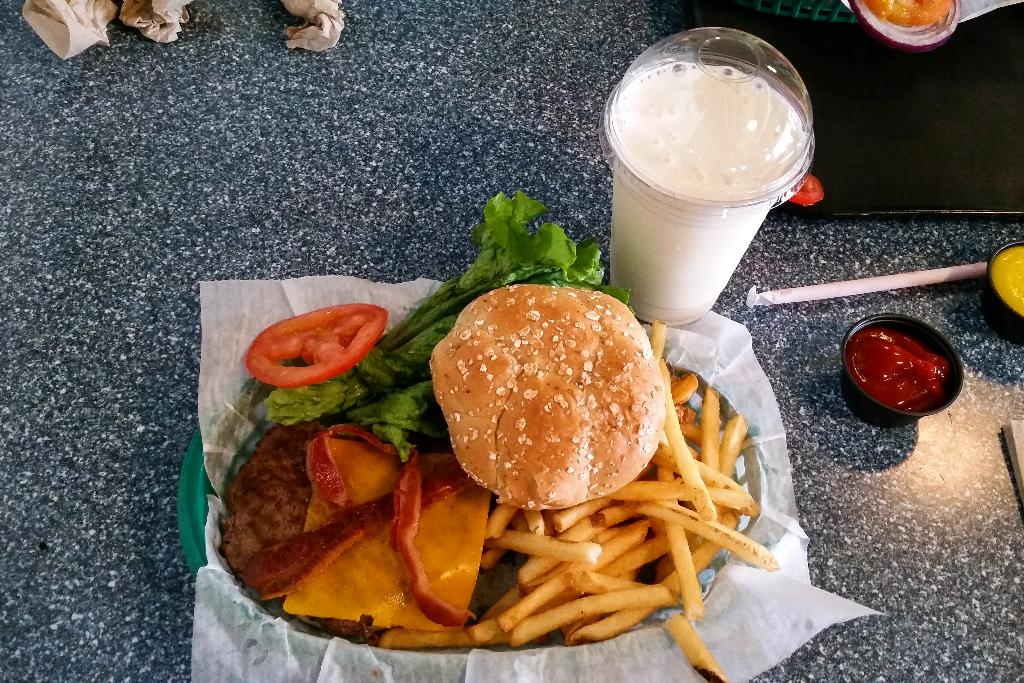French fries: (370, 326, 782, 682)
